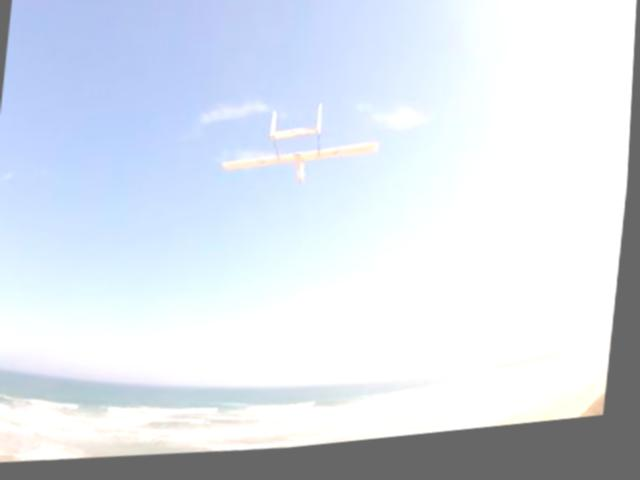uav: (217, 96, 392, 208)
